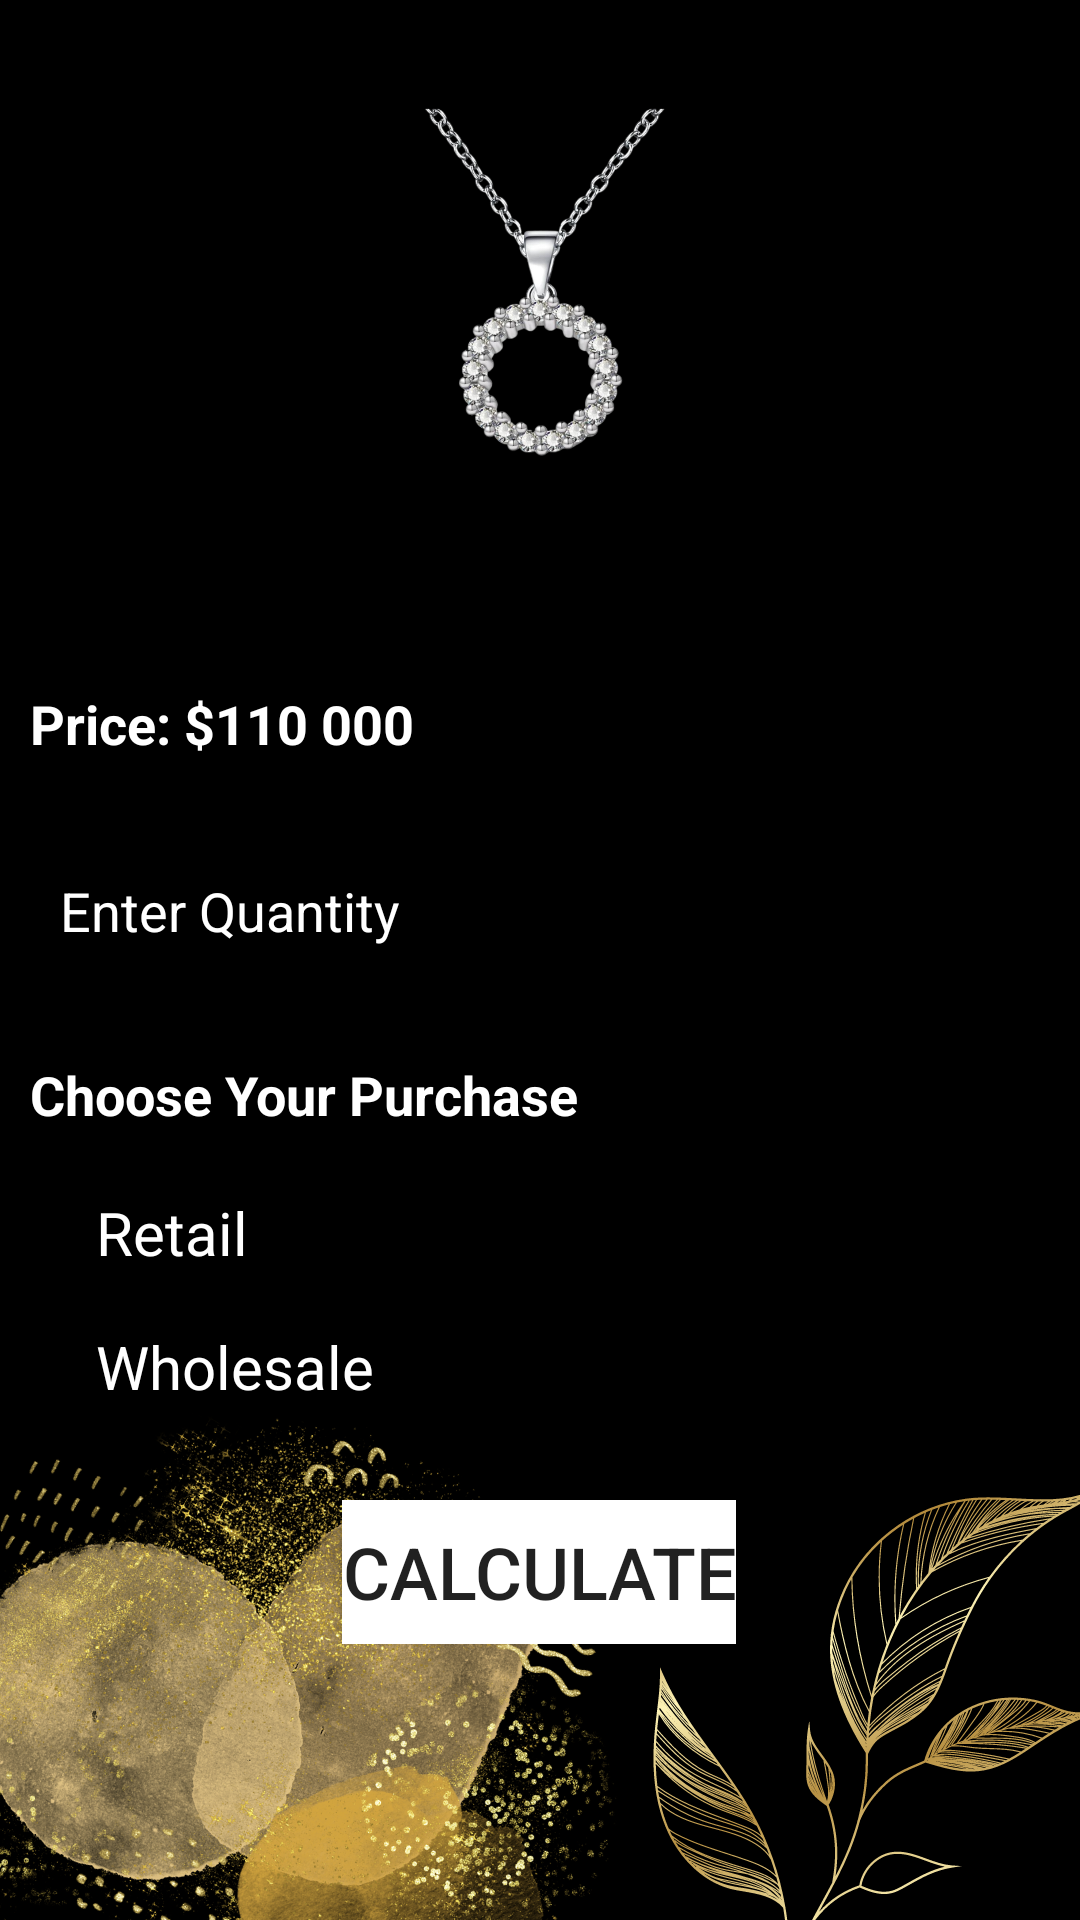

Named icons in this screenshot (1080x1920) and their bounding boxes, (x1, y1, x2, y2):
snecklace: (425, 108, 664, 456)
